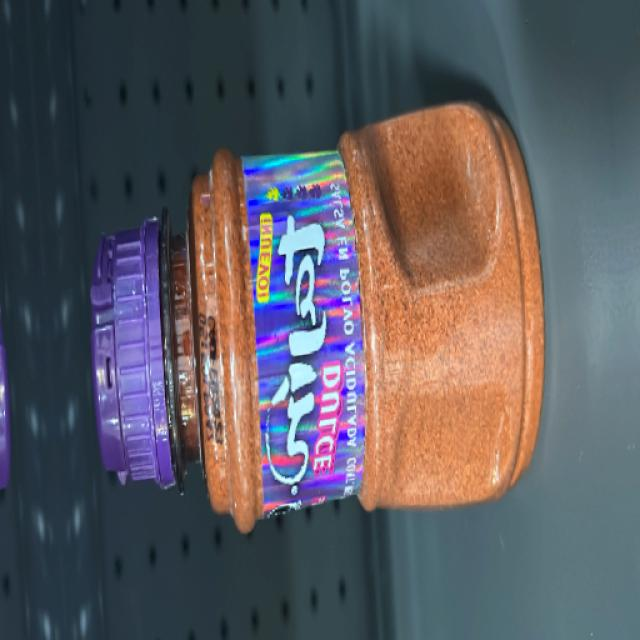tajinDulce: (102, 188, 555, 512)
